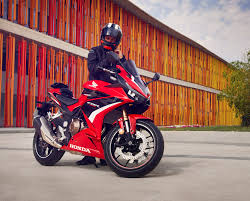motorcycle: (28, 53, 166, 179)
